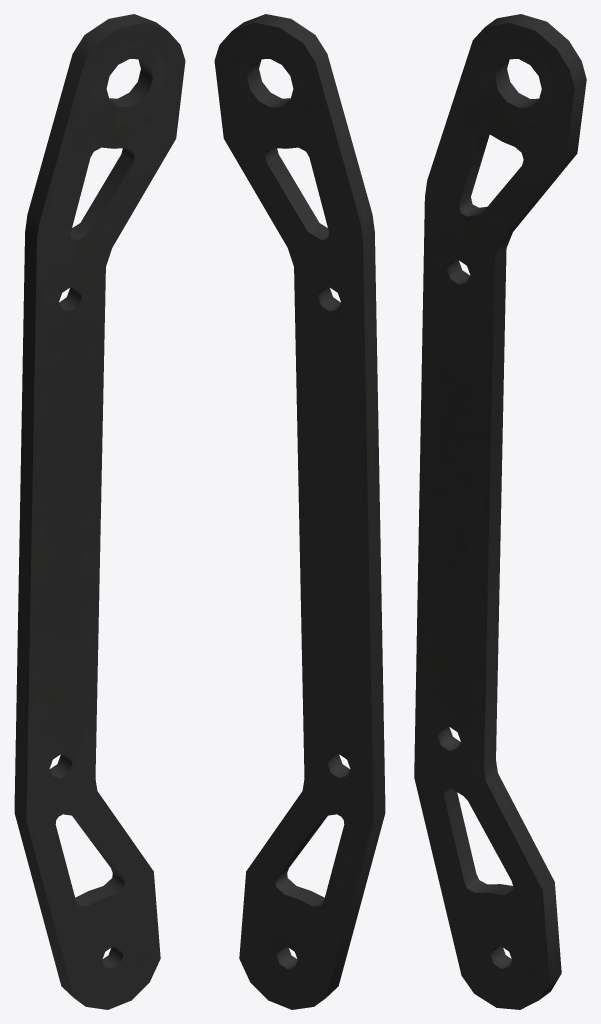
The model's file is rod_3.dae.
3 renders of one model, left to right at view 1: azimuth 30°, elevation 25°; view 2: azimuth 150°, elevation 25°; view 3: azimuth 330°, elevation 25°, orthographic.
Parts seen in each view (by area): view 1: rod_3; view 2: rod_3; view 3: rod_3.
Part boxes in pixels (x1=…): rod_3: x1=14, y1=14, x2=185, y2=1009; rod_3: x1=214, y1=14, x2=385, y2=1009; rod_3: x1=414, y1=14, x2=586, y2=1009.
Bounding box in the file's own units: 0.0229 × 0.00297 × 0.1348.
